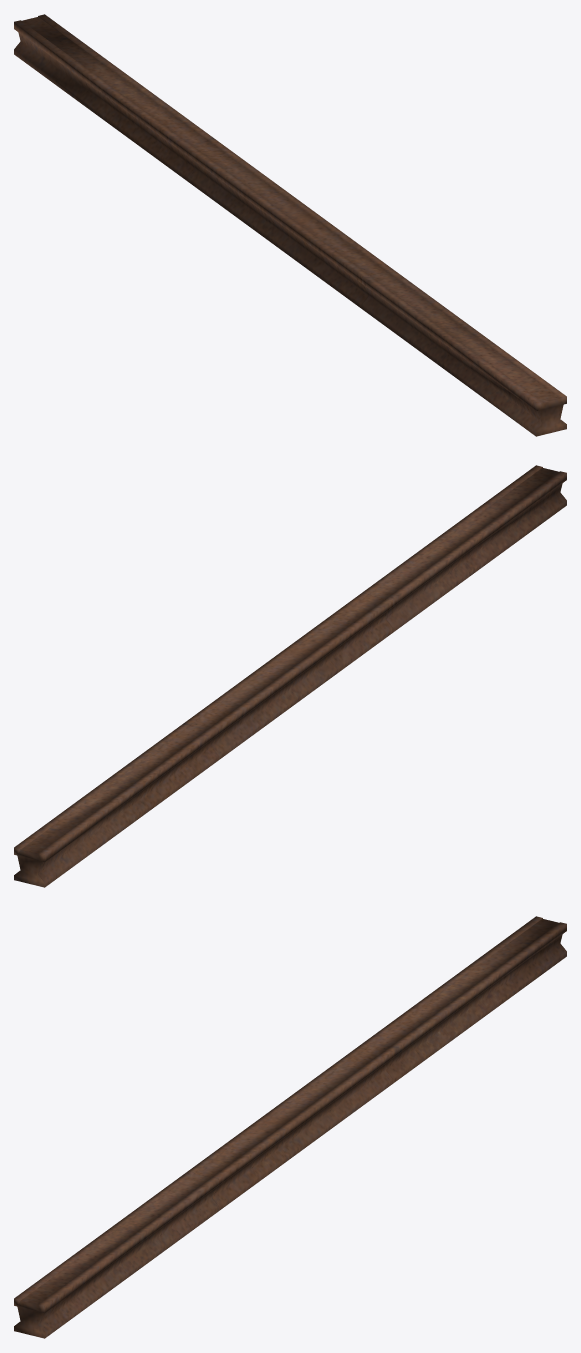
The model's file is Schiene.fbx.
The picture shows the model from 3 angles, top to bottom: view 1: azimuth 30°, elevation 25°; view 2: azimuth 150°, elevation 25°; view 3: azimuth 330°, elevation 25°; orthographic projection.
Parts seen in each view (by area): view 1: Schiene; view 2: Schiene; view 3: Schiene.
Part boxes in pixels (x1,y1,x2,y2): Schiene: [14, 14, 566, 436]; Schiene: [14, 465, 566, 887]; Schiene: [14, 916, 566, 1338].
Size of the model in its own units: 9.29 by 9.38 by 272.
